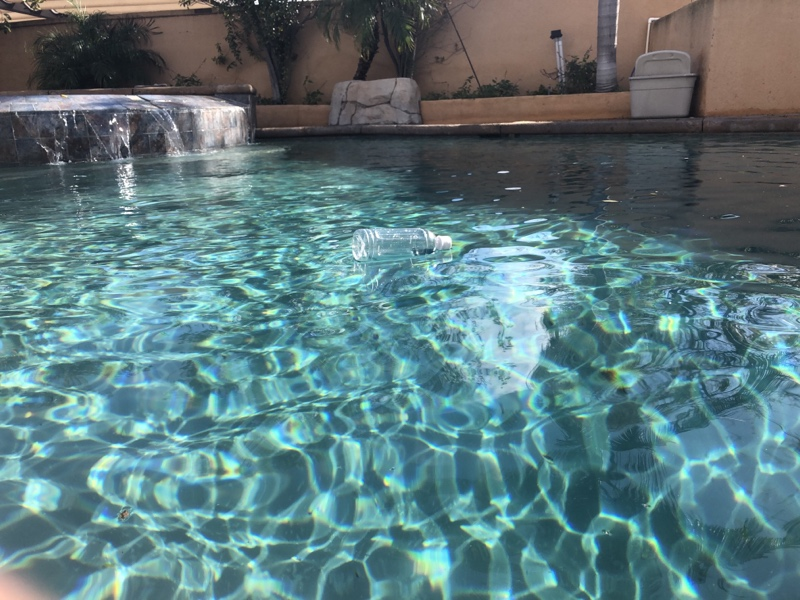Plastic Bottle: (346, 224, 458, 267)
